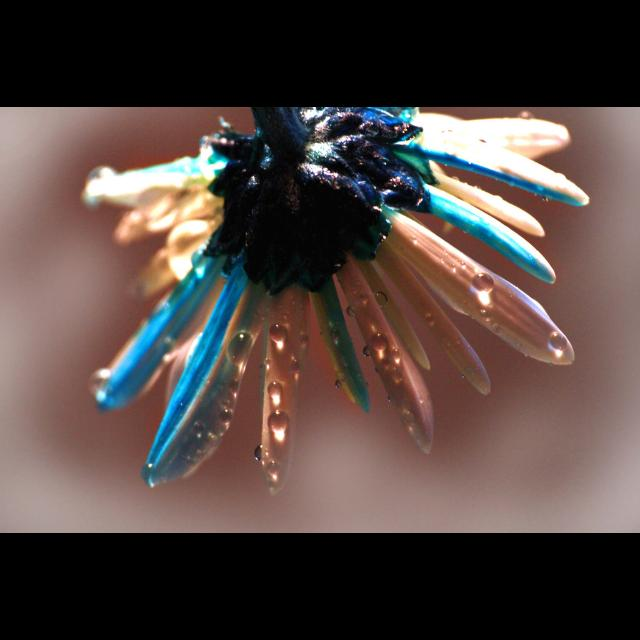Flower: (82, 108, 596, 494)
